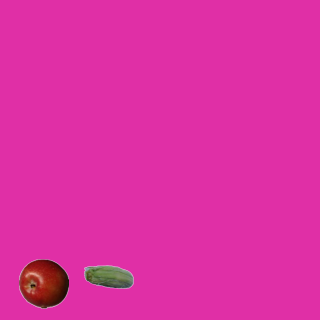Apple Braeburn: (18, 258, 68, 308)
Corn Husk: (83, 253, 133, 303)
